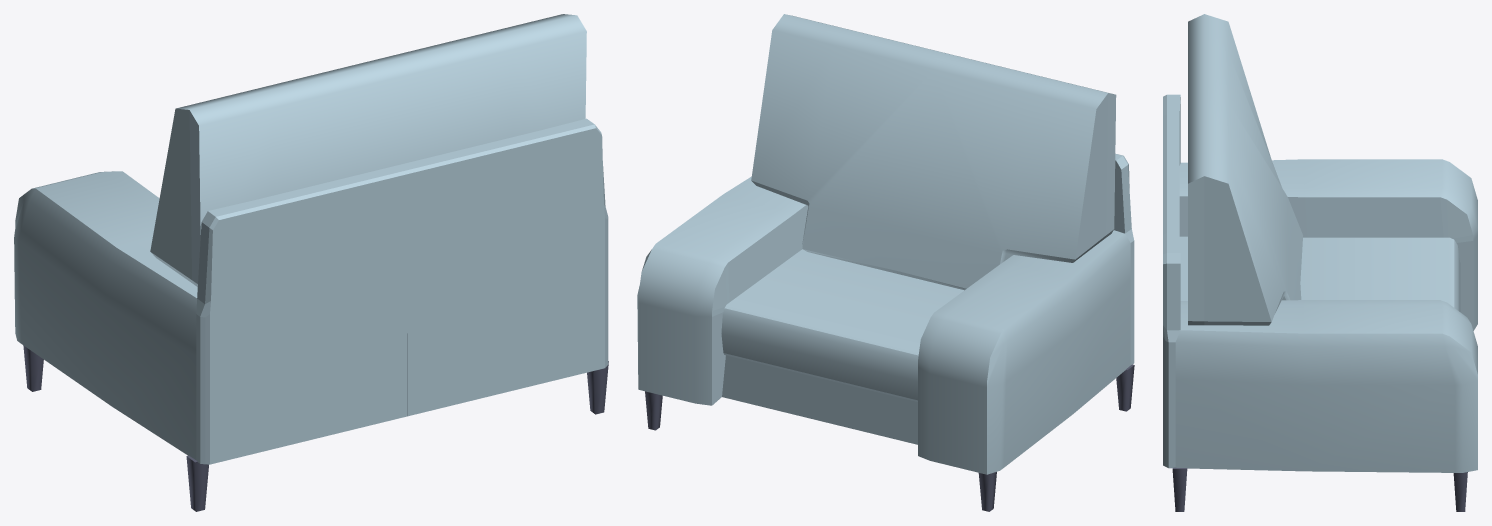
Rendered from Prop_sofa.FBX.
The picture shows the model from 3 angles, left to right: view 1: azimuth 30°, elevation 25°; view 2: azimuth 150°, elevation 25°; view 3: azimuth 270°, elevation 25°; orthographic projection. The views are drawn at different scales.
Parts seen in each view (by area): view 1: Box165; view 2: Box165; view 3: Box165.
Part boxes in pixels (<box>): Box165: <box>14,14,608,511</box>; Box165: <box>637,14,1134,511</box>; Box165: <box>1163,14,1477,511</box>.
Size of the model in its own units: 47.59 by 34.67 by 40.3.
